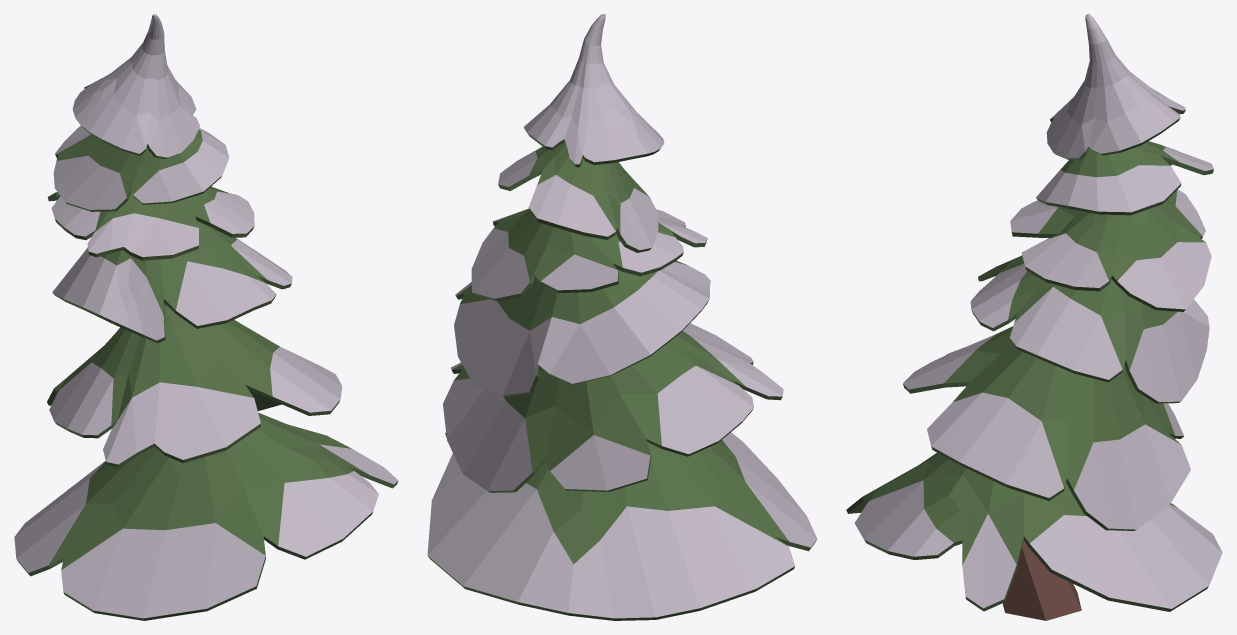
File: PineTree_Snow_3.glb
3 views of the same model, side by side, from view 1: azimuth 30°, elevation 25°; view 2: azimuth 150°, elevation 25°; view 3: azimuth 270°, elevation 25° (orthographic). The views are drawn at different scales.
Visible parts, largest first — view 1: PineTree_Snow_3; view 2: PineTree_Snow_3; view 3: PineTree_Snow_3.
Boxes of the visible parts, left/top/right/bottom form: PineTree_Snow_3: left=14, top=14, right=398, bottom=620; PineTree_Snow_3: left=427, top=14, right=817, bottom=620; PineTree_Snow_3: left=846, top=14, right=1222, bottom=620.
Size of the model in its own units: 2.16 by 3.3 by 1.95.
